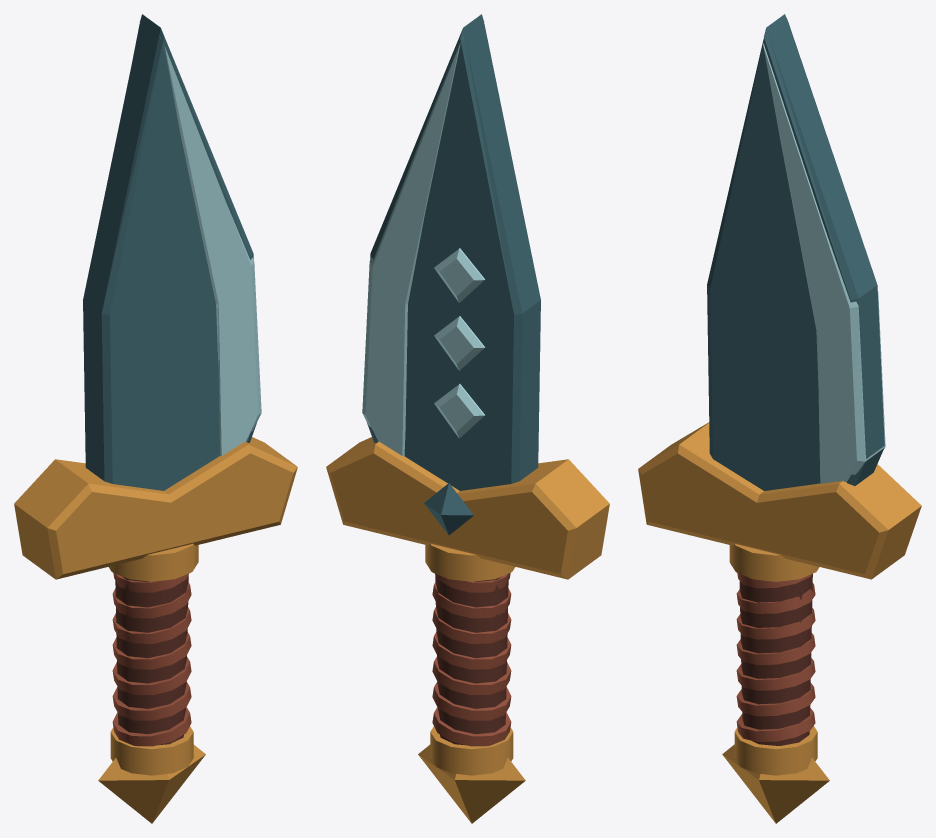
The model's file is dagger.glb.
3 renders of one model, left to right at view 1: azimuth 30°, elevation 25°; view 2: azimuth 150°, elevation 25°; view 3: azimuth 330°, elevation 25°, orthographic.
Visible parts, largest first — view 1: dagger; view 2: dagger; view 3: dagger.
Boxes of the visible parts, <box> form: dagger: <box>14,14,297,823</box>; dagger: <box>326,14,609,823</box>; dagger: <box>638,14,921,823</box>.
Bounding box in the file's own units: 0.3482 × 1.07 × 0.1302.
